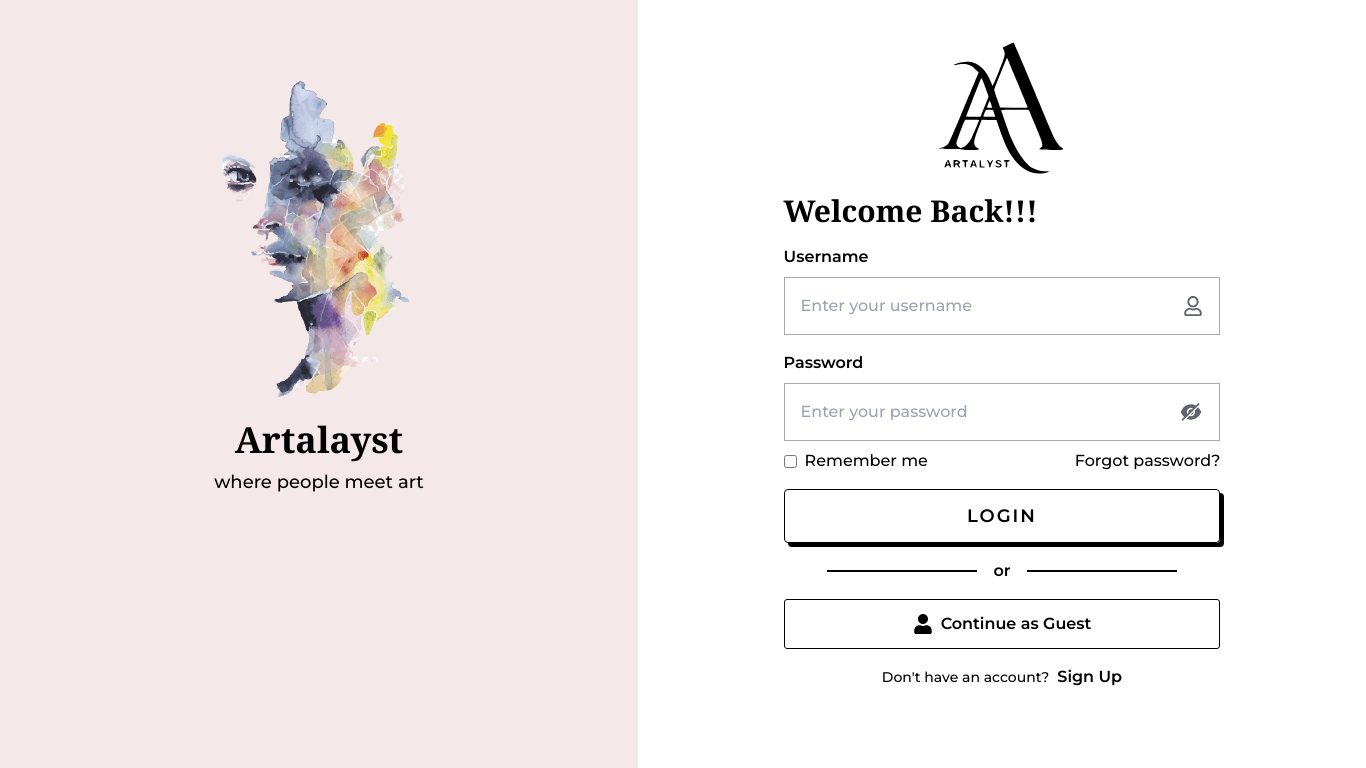
it: Login Page › should show error message for empty username and password
The image size is (1366, 768).
What coordinates should you click on to do the following:
click the button "LOGIN"
I would click on:
 (1002, 516)
Its box is [784, 489, 1220, 543].
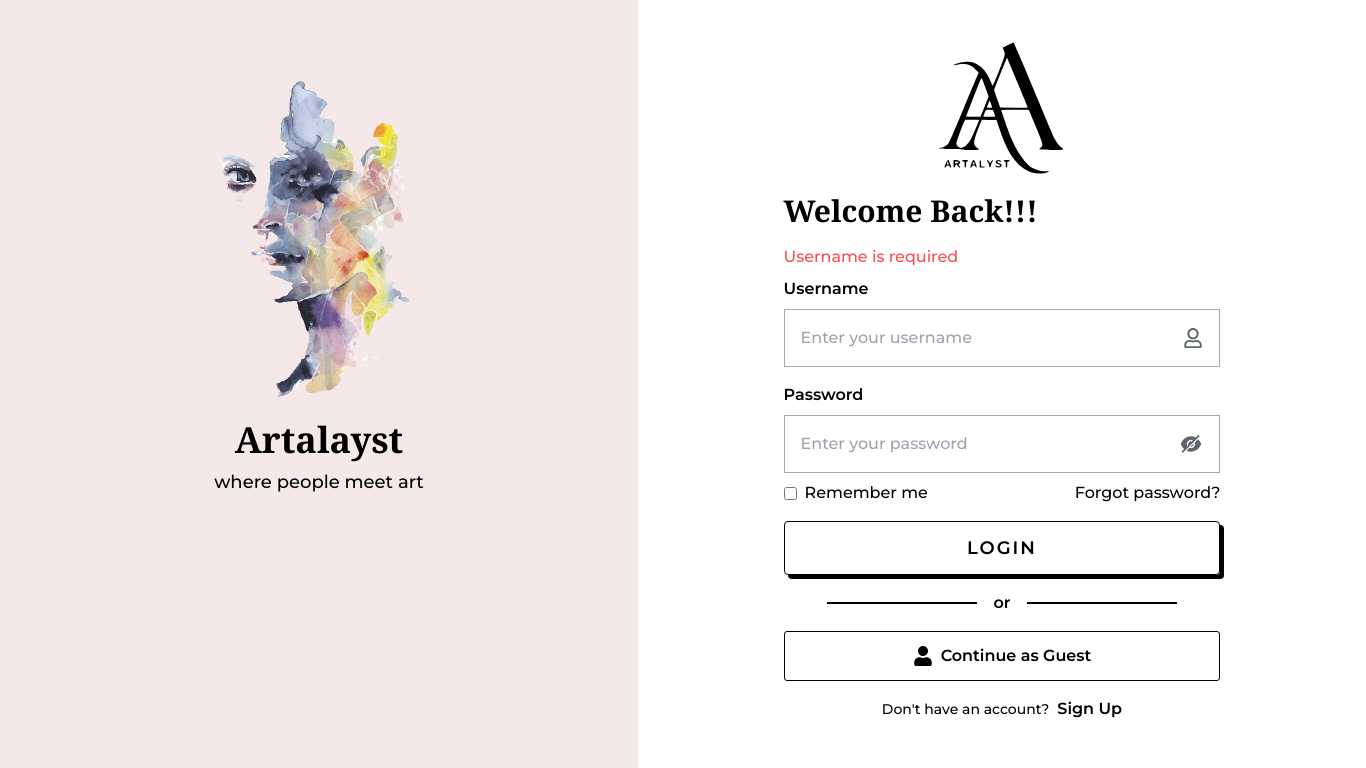
Check: the text "Username is required" is shown, box [784, 247, 958, 266]
